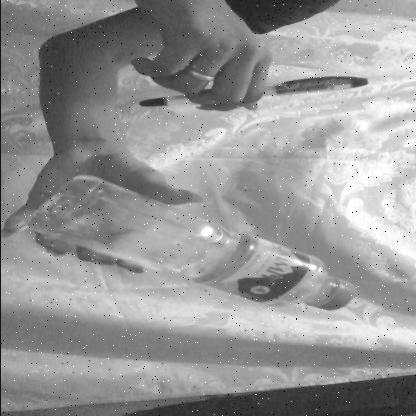Plastic Bottle: (6, 147, 383, 319)
